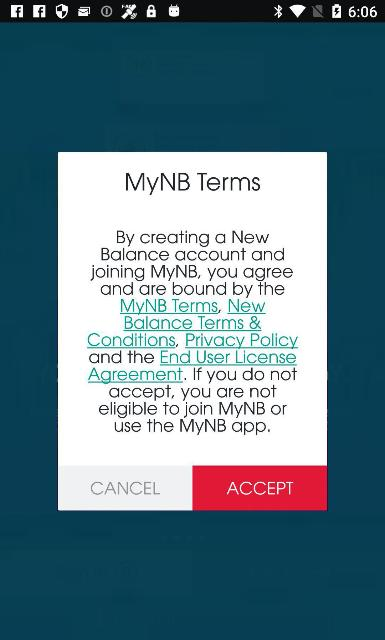Modal: (58, 152, 328, 510)
Text: (86, 230, 298, 436), (125, 172, 260, 195), (91, 482, 161, 494), (226, 482, 294, 494)
TextButton: (192, 466, 328, 510), (58, 466, 192, 510)
UpperTaskBar: (0, 0, 384, 22)
